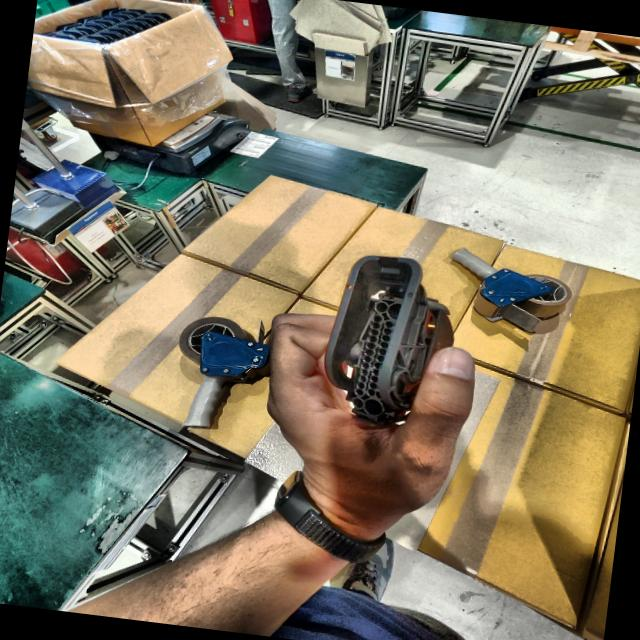P38: (324, 255, 453, 427)
